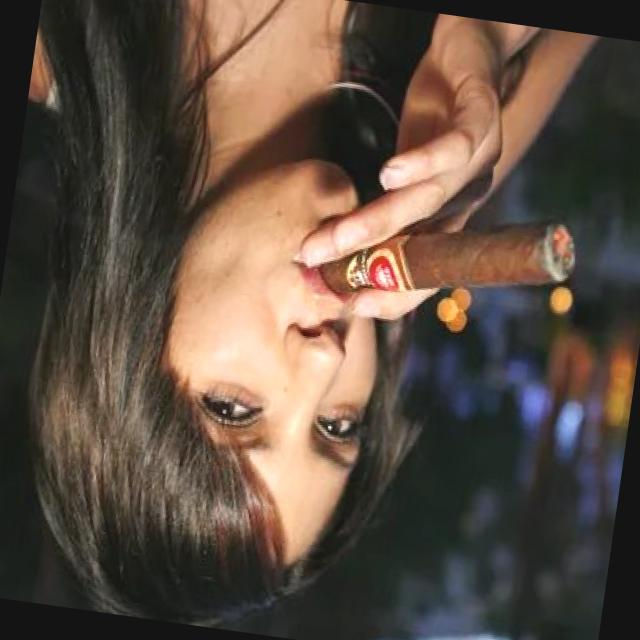cigarette: (313, 180, 586, 331)
